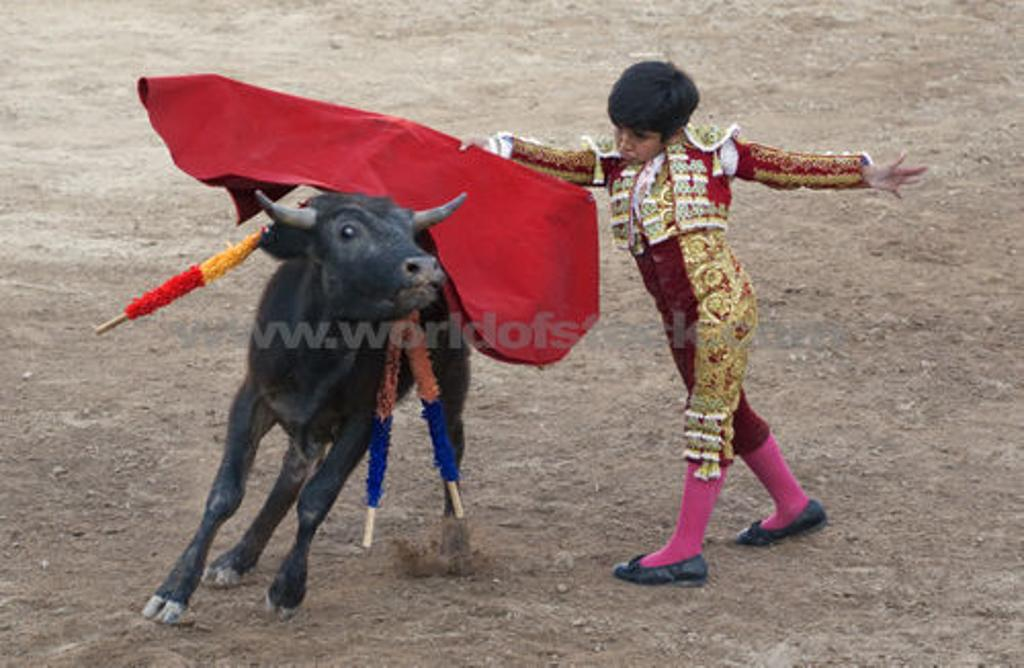face: (614, 118, 663, 165)
